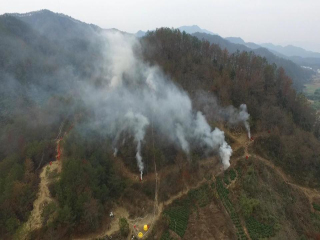smoke: (75, 28, 255, 174)
